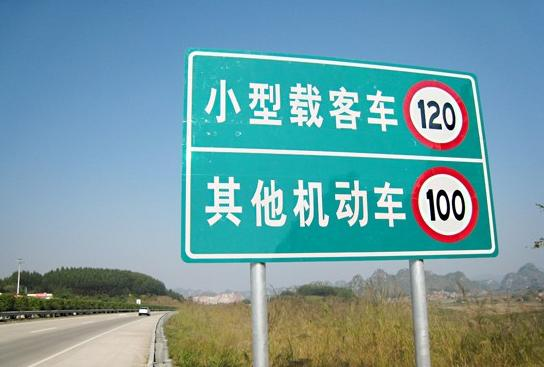Speed_limit_100km: (409, 166, 481, 242)
Speed_limit_120km: (401, 76, 471, 153)
